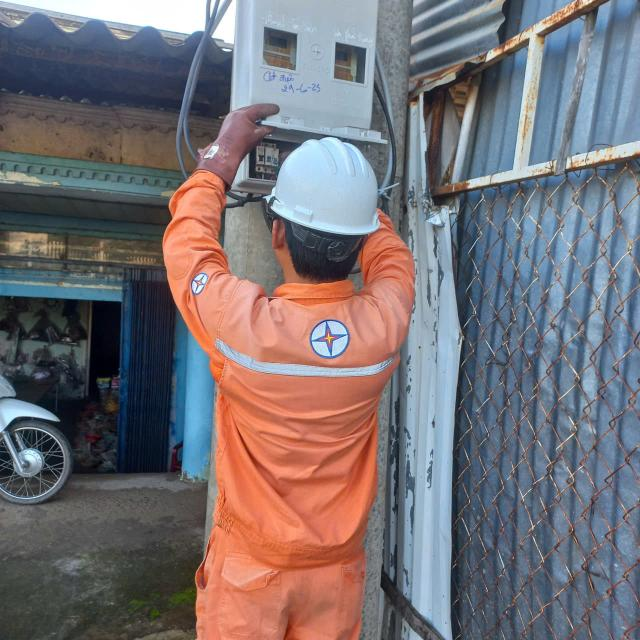gloves: (178, 82, 280, 193)
helmet: (255, 132, 400, 256)
